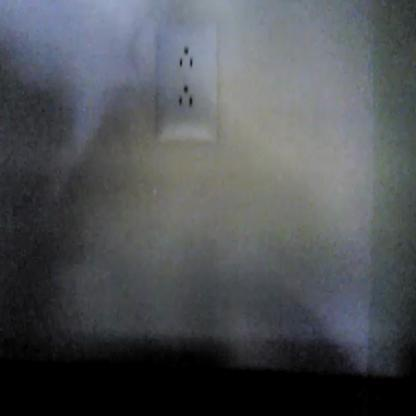OUTLET: (154, 15, 220, 144)
